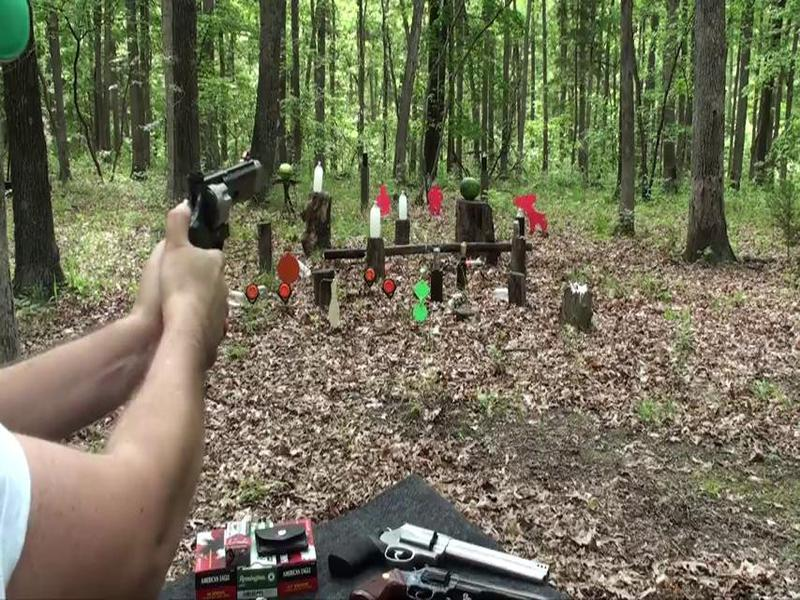Revolver: (161, 132, 281, 304)
